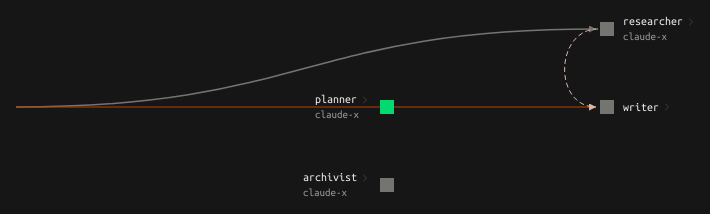
Test case: GraphField agents › reads out an agent's runs and state, and lights its links and neighbors
Hover over the link "planner claude-x" at {"x": 354, "y": 107}, box top-left (315, 90), bottom-right (394, 124)
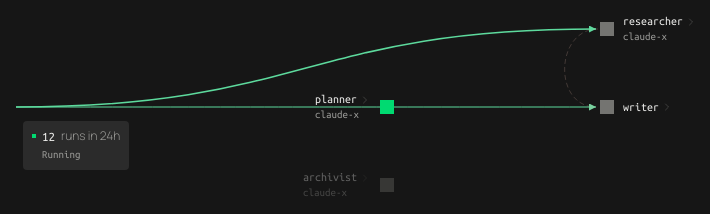
Expected: the element showing "12 runs in 24h Running" is shown, top-left (23, 121), bottom-right (129, 170)
